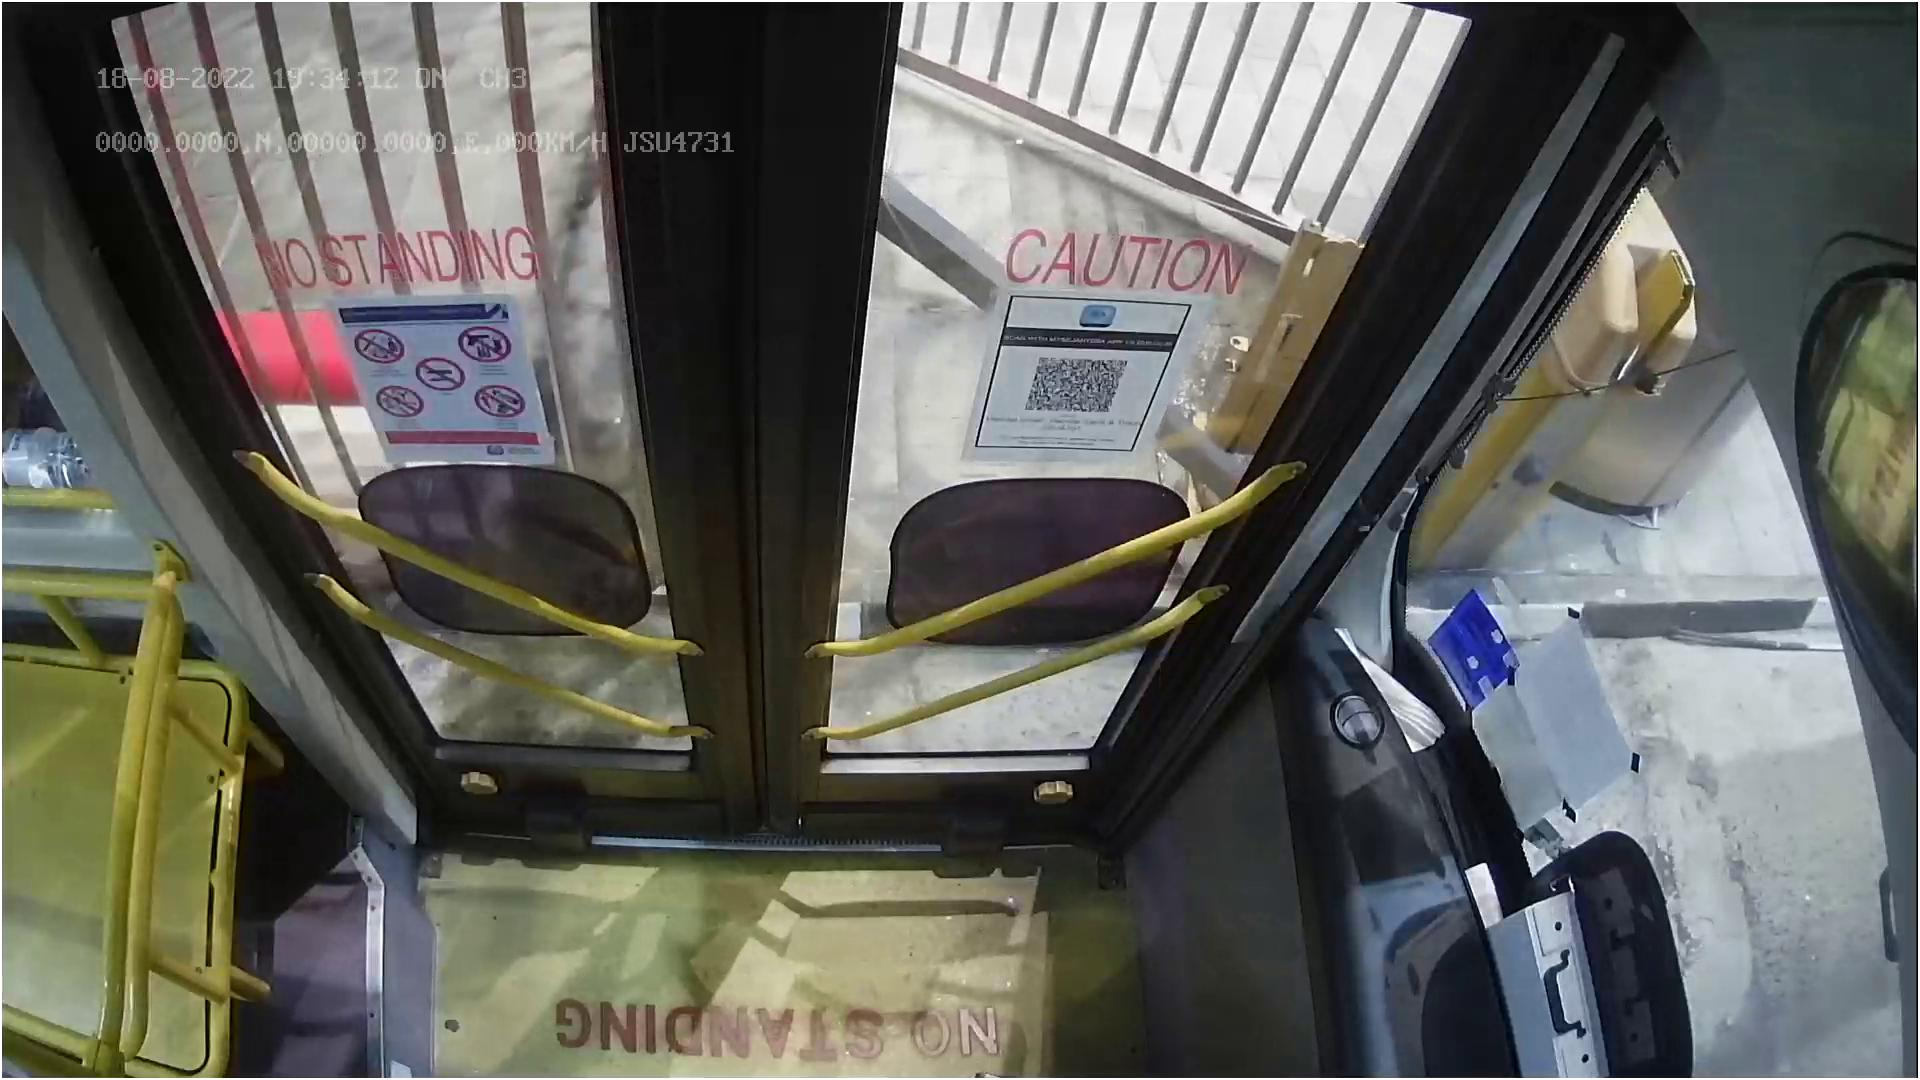close: (128, 0, 1441, 169)
